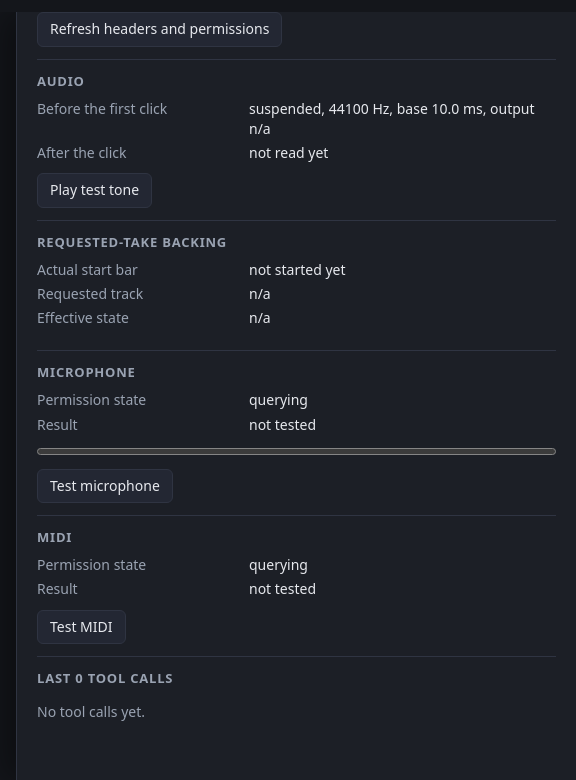
Test: Diagnostics › shows an open microphone with a stop button and stops it
(page scrolled)
Click the button "Test microphone" at (105, 486), box [37,469,173,503]
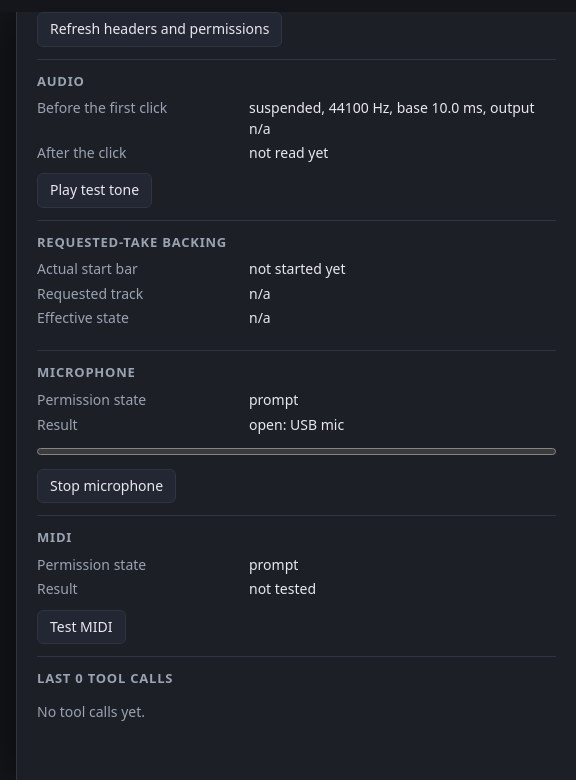
Result: the text with test id "microphone-result" reads "open: USB mic" at [249,414,344,434]
Click the button "Stop microphone" at (107, 486), box [37,469,176,503]
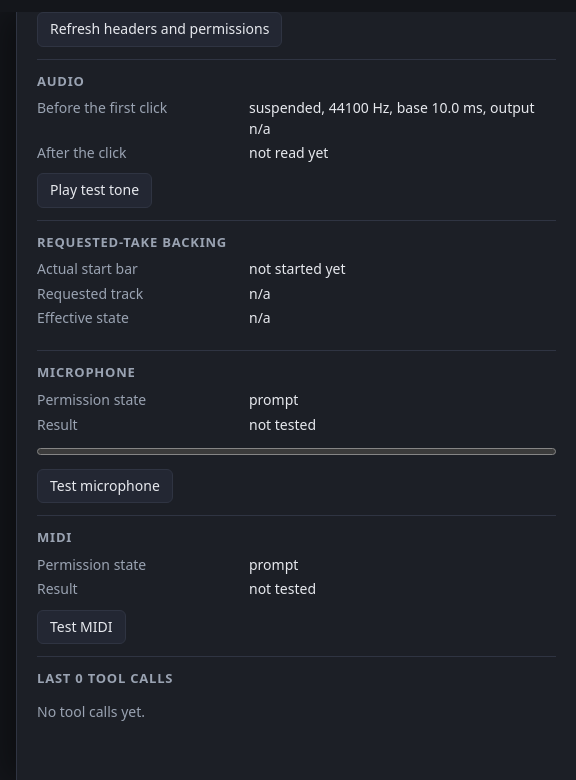
Result: the text with test id "microphone-result" reads "not tested" at [249,414,316,434]
